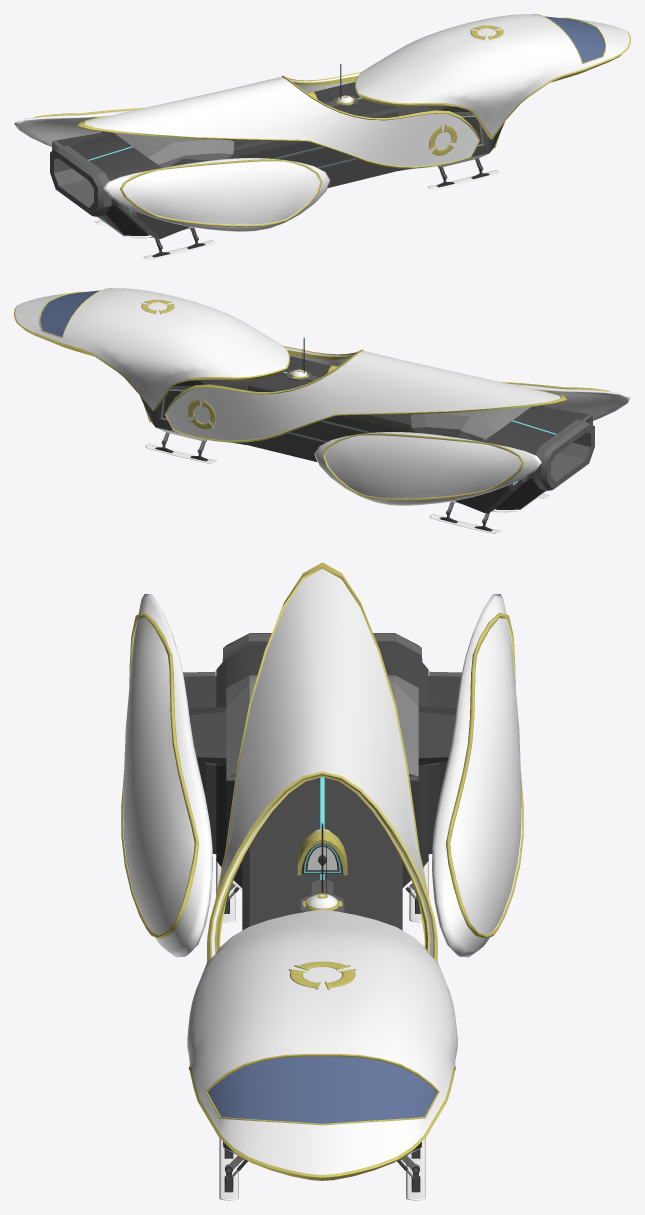
Rendered from Maj_Hull.fbx.
3 views of the same model, one above another, from view 1: azimuth 30°, elevation 25°; view 2: azimuth 150°, elevation 25°; view 3: azimuth 270°, elevation 25° (orthographic). The views are drawn at different scales.
Visible parts, largest first — view 1: Majestic_Exterior; view 2: Majestic_Exterior; view 3: Majestic_Exterior.
Part boxes in pixels (<box>): Majestic_Exterior: <box>14,14,630,259</box>; Majestic_Exterior: <box>14,288,630,533</box>; Majestic_Exterior: <box>121,562,523,1200</box>.
Size of the model in its own units: 348 by 74.45 by 107.
